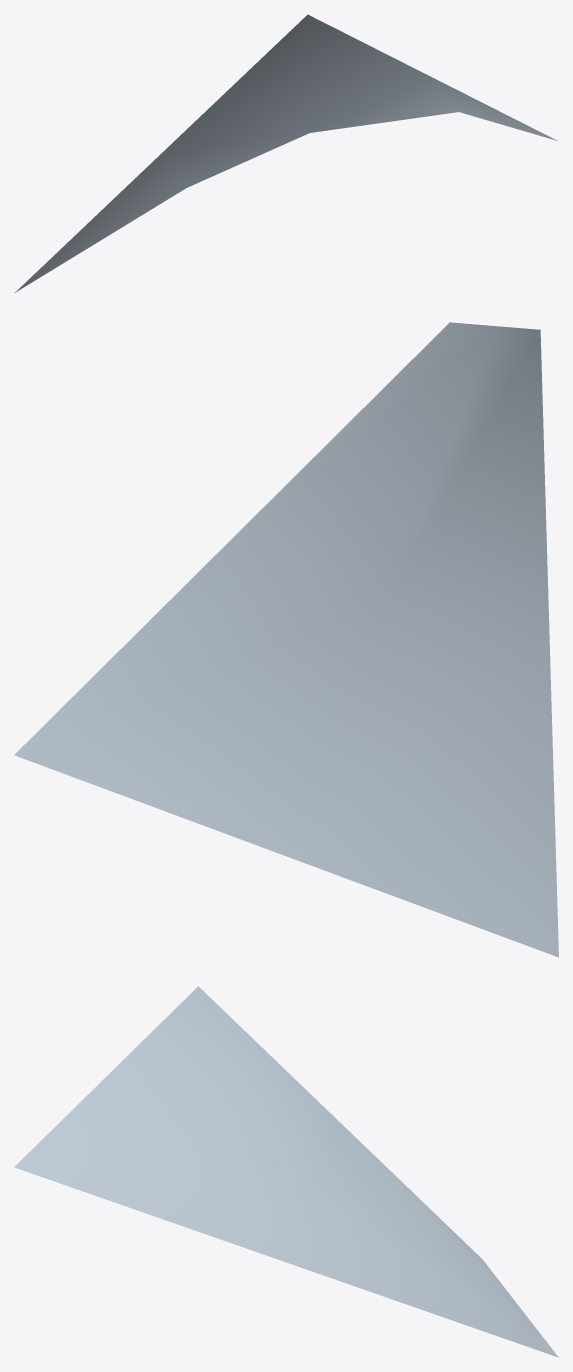
File: calcaneonavicular-ligament-l.glb
3 renders of one model, top to bottom at view 1: azimuth 30°, elevation 25°; view 2: azimuth 150°, elevation 25°; view 3: azimuth 270°, elevation 25°, orthographic. The views are drawn at different scales.
Visible parts, largest first — view 1: Calcaneonavicular ligament.l; view 2: Calcaneonavicular ligament.l; view 3: Calcaneonavicular ligament.l.
Boxes of the visible parts, x1,y1,x2,y2 form: Calcaneonavicular ligament.l: (15, 14, 557, 292); Calcaneonavicular ligament.l: (14, 322, 558, 957); Calcaneonavicular ligament.l: (14, 986, 558, 1357).
Bounding box in the file's own units: 0.0096 × 0.00825 × 0.0116.
